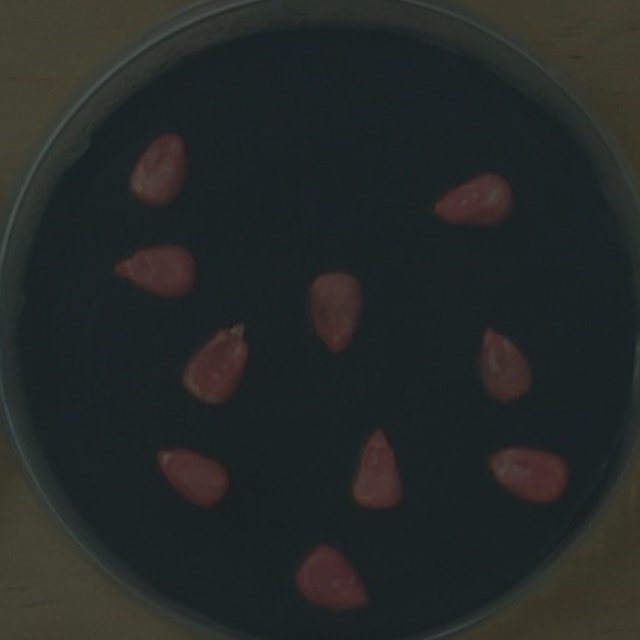Zea mays: (171, 313, 257, 414), (285, 534, 377, 622), (143, 438, 239, 520), (296, 261, 372, 364), (118, 122, 199, 218), (338, 418, 413, 521), (104, 233, 207, 307), (477, 439, 578, 512), (468, 315, 542, 414), (425, 164, 522, 236)
